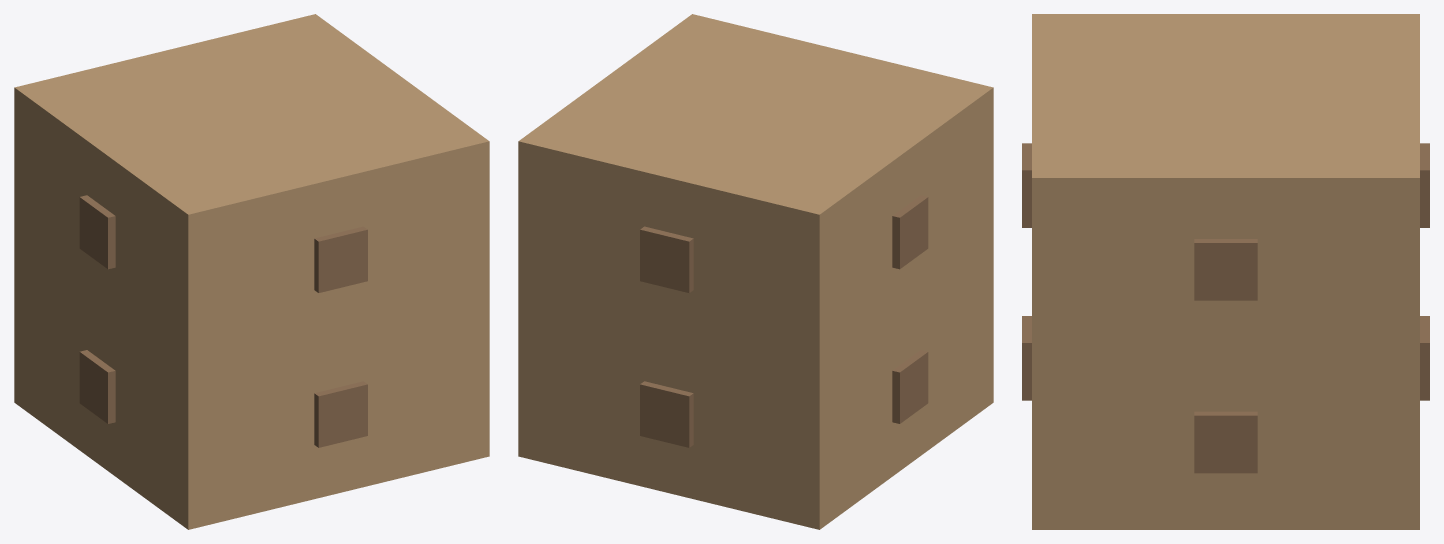
Rendered from PROP-crate-00.glb.
The picture shows the model from 3 angles, left to right: view 1: azimuth 30°, elevation 25°; view 2: azimuth 150°, elevation 25°; view 3: azimuth 270°, elevation 25°; orthographic projection. The views are drawn at different scales.
Visible parts, largest first — view 1: PROP-crate-00; view 2: PROP-crate-00; view 3: PROP-crate-00.
Boxes of the visible parts, x1,y1,x2,y2 form: PROP-crate-00: (14, 14, 489, 529); PROP-crate-00: (518, 14, 993, 529); PROP-crate-00: (1022, 14, 1429, 529).
Size of the model in its own units: 0.5775 by 0.55 by 0.5775.
